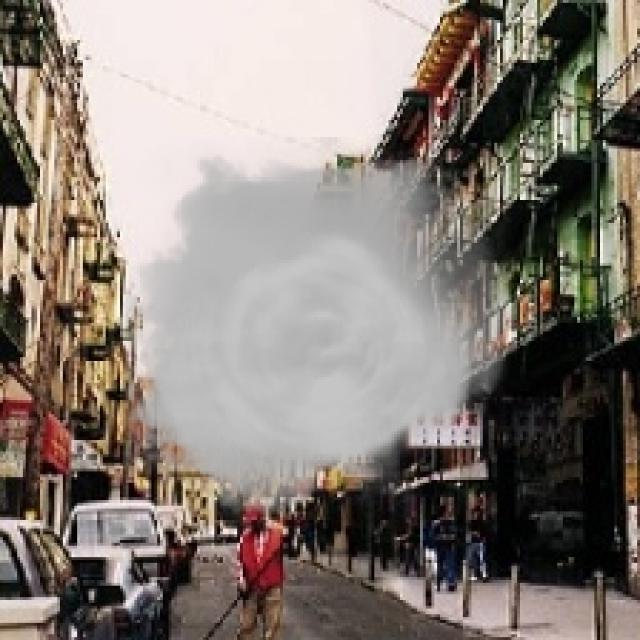smoke: (123, 137, 511, 529)
